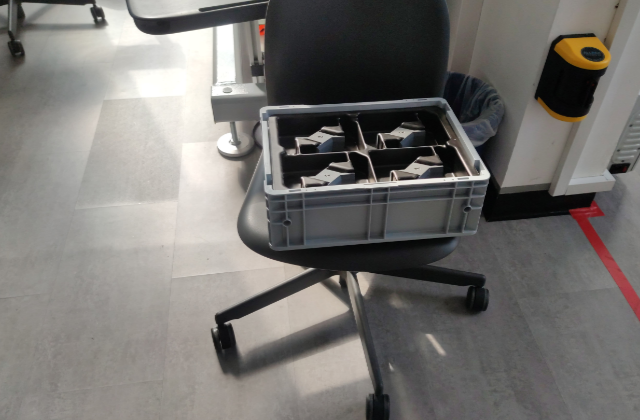Box: (257, 95, 491, 251)
